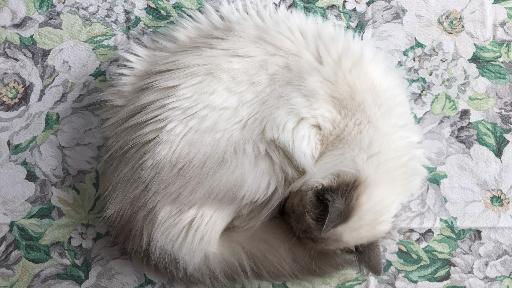cat_sleeping: (99, 2, 427, 284)
